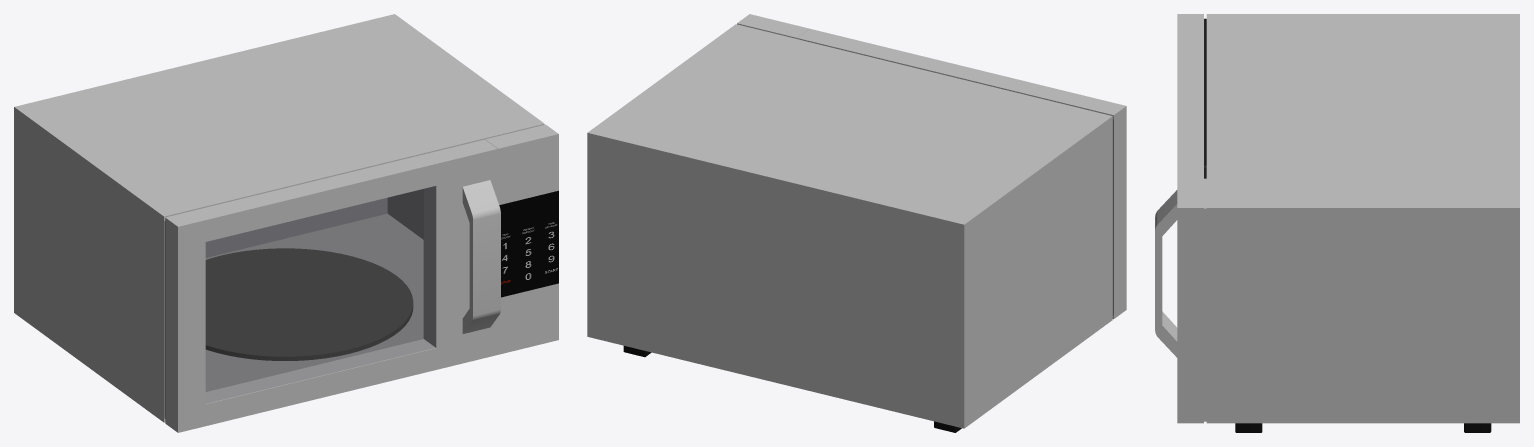
The model's file is microwave.glb.
3 renders of one model, left to right at view 1: azimuth 30°, elevation 25°; view 2: azimuth 150°, elevation 25°; view 3: azimuth 270°, elevation 25°, orthographic. The views are drawn at different scales.
Visible parts, largest first — view 1: Cube, Cube.004, Cube.001, Circle.001, Cube.002, Cube.003; view 2: Cube, Cube.001, Cube.002; view 3: Cube, Cube.002, Cube.001, Cube.003, Cube.005, Circle.
Boxes of the visible parts, x1=… form: Cube: x1=14, y1=14, x2=544, y2=422; Cube.004: x1=206, y1=186, x2=435, y2=403; Cube.001: x1=165, y1=139, x2=497, y2=432; Circle.001: x1=205, y1=248, x2=413, y2=360; Cube.002: x1=485, y1=124, x2=558, y2=354; Cube.003: x1=462, y1=180, x2=500, y2=333; Cube: x1=587, y1=24, x2=1112, y2=428; Cube.001: x1=797, y1=29, x2=1126, y2=319; Cube.002: x1=737, y1=14, x2=809, y2=38; Cube: x1=1206, y1=14, x2=1519, y2=423; Cube.002: x1=1177, y1=177, x2=1206, y2=423; Cube.001: x1=1177, y1=14, x2=1203, y2=176; Cube.003: x1=1155, y1=190, x2=1177, y2=357; Cube.005: x1=1235, y1=423, x2=1491, y2=432; Circle: x1=1204, y1=18, x2=1206, y2=165.
Size of the model in its own units: 0.5242 by 0.298 by 0.4161.
Materials: 10 (1 with a texture image).
